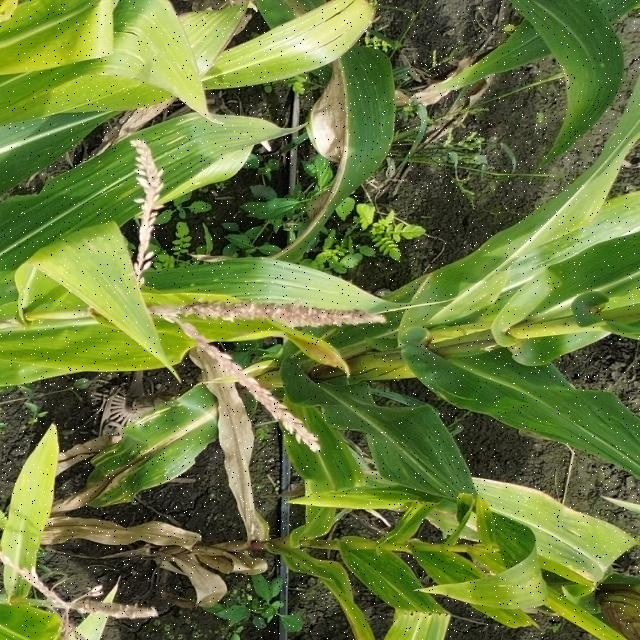gray-leaf-spot: (83, 414, 189, 503)
northern-leaf-blight: (508, 500, 622, 597)
southern-leaf-blight: (466, 206, 612, 292)
